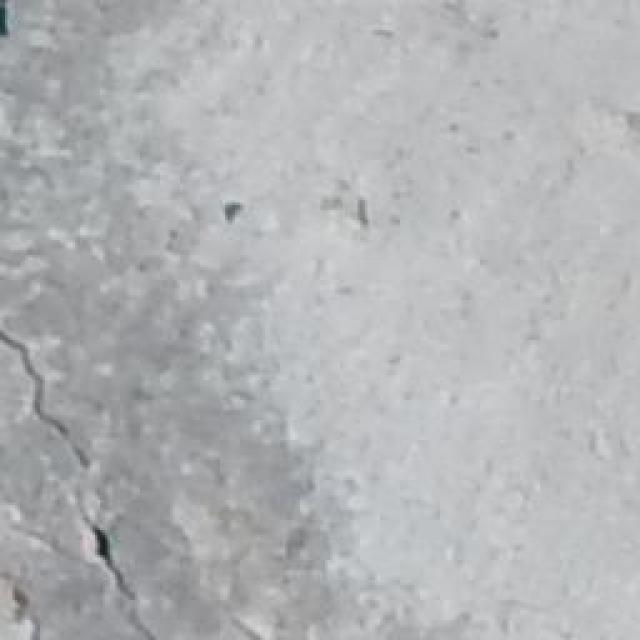concrete-crack: (0, 326, 164, 640)
